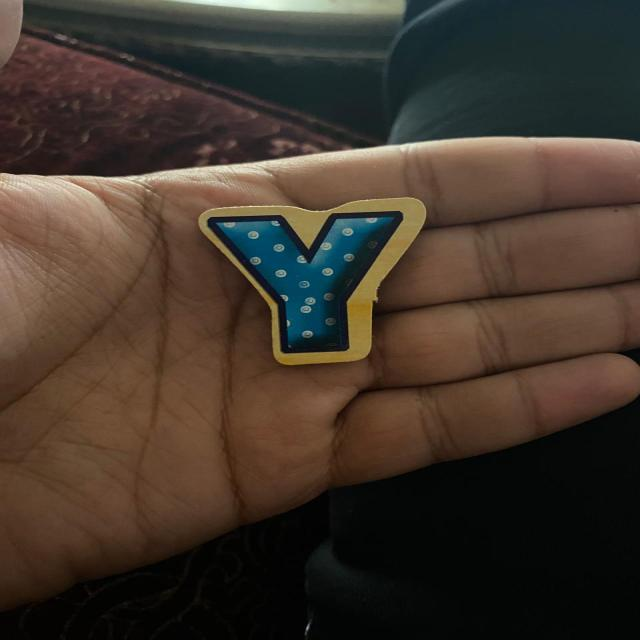Y: (199, 198, 425, 365)
